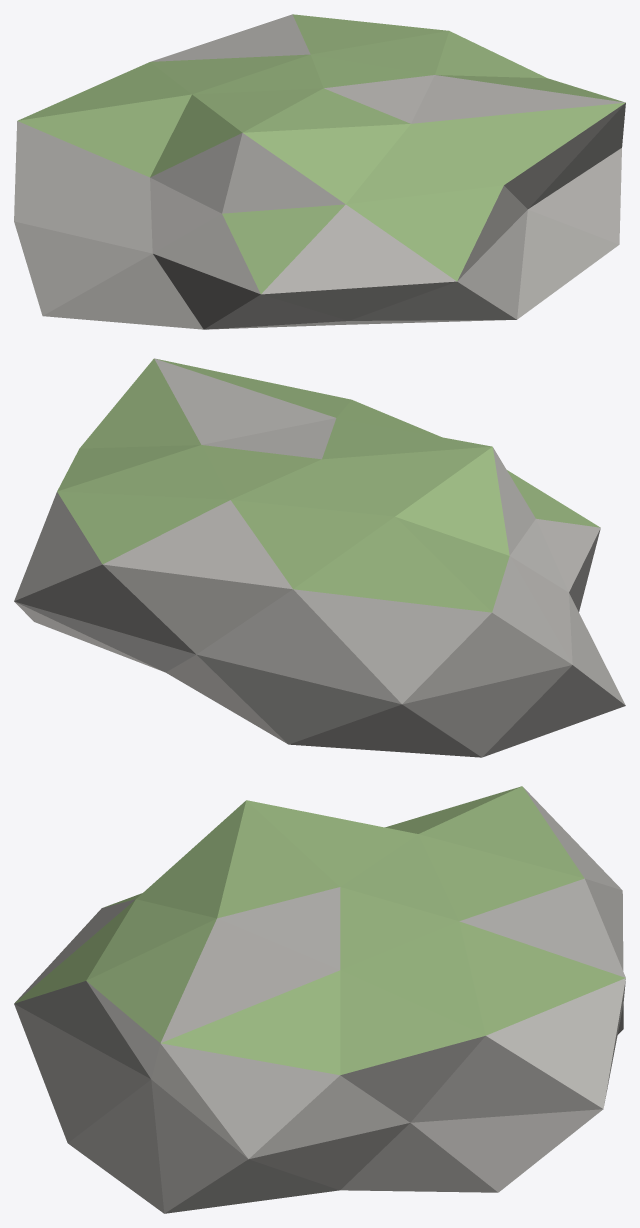
Rendered from Rock_C.fbx.
3 renders of one model, top to bottom at view 1: azimuth 30°, elevation 25°; view 2: azimuth 150°, elevation 25°; view 3: azimuth 270°, elevation 25°, orthographic. The views are drawn at different scales.
Parts seen in each view (by area): view 1: Rock_C; view 2: Rock_C; view 3: Rock_C.
Boxes of the visible parts, <box> form: Rock_C: <box>14,14,625,329</box>; Rock_C: <box>14,358,625,757</box>; Rock_C: <box>14,786,625,1213</box>.
Bounding box in the file's own units: 2.91 × 1.01 × 2.33.
